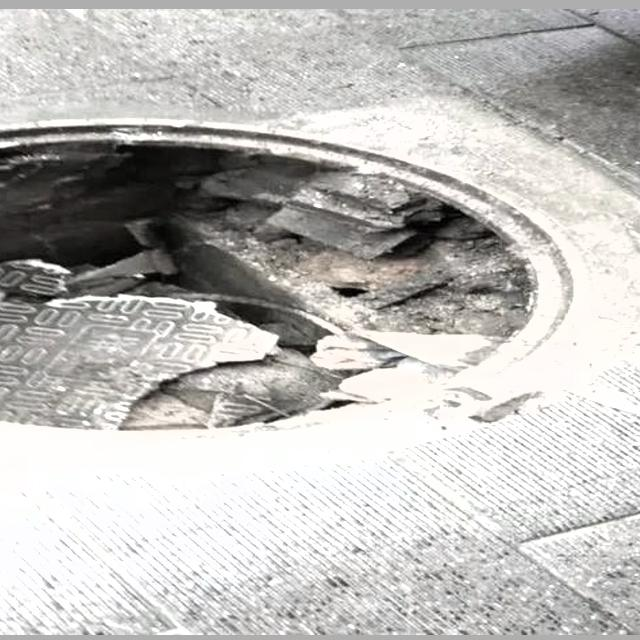broke: (0, 107, 582, 469)
